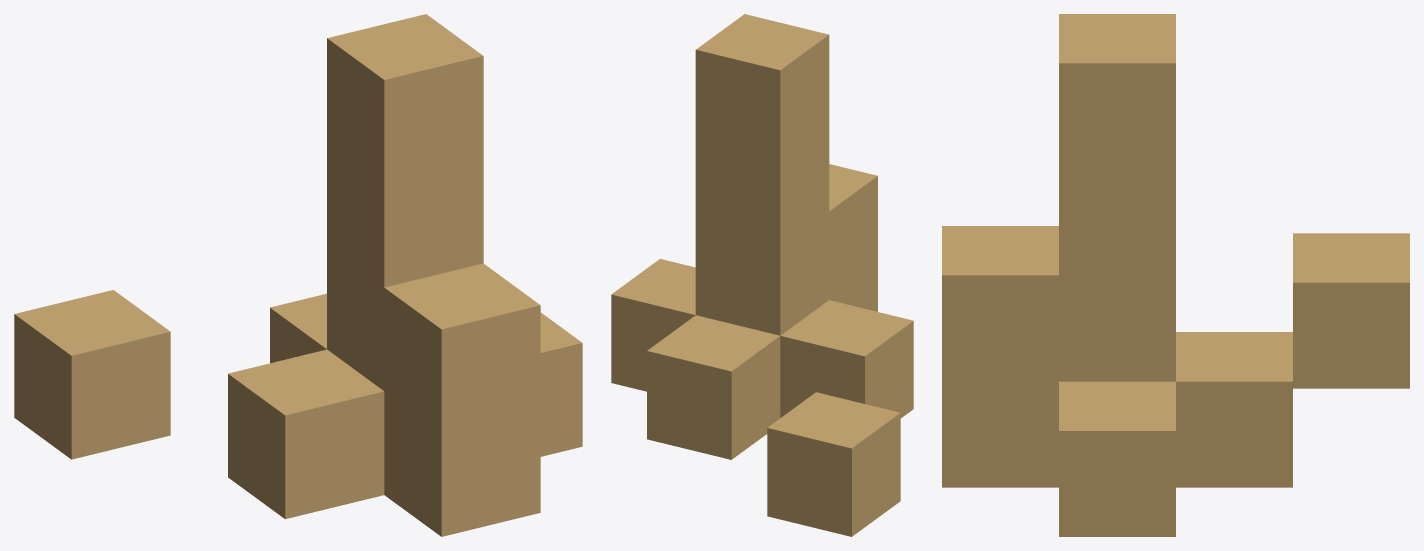
File: Grass_2.obj
3 views of the same model, side by side, from view 1: azimuth 30°, elevation 25°; view 2: azimuth 150°, elevation 25°; view 3: azimuth 270°, elevation 25° (orthographic). The views are drawn at different scales.
Visible parts, largest first — view 1: Grass_2; view 2: Grass_2; view 3: Grass_2.
Part boxes in pixels (x1,y1,x2,y2): Grass_2: [14, 14, 582, 536]; Grass_2: [611, 14, 913, 536]; Grass_2: [942, 14, 1409, 536].
Bounding box in the file's own units: 4 × 4 × 4.
1 material, 1 textured.
